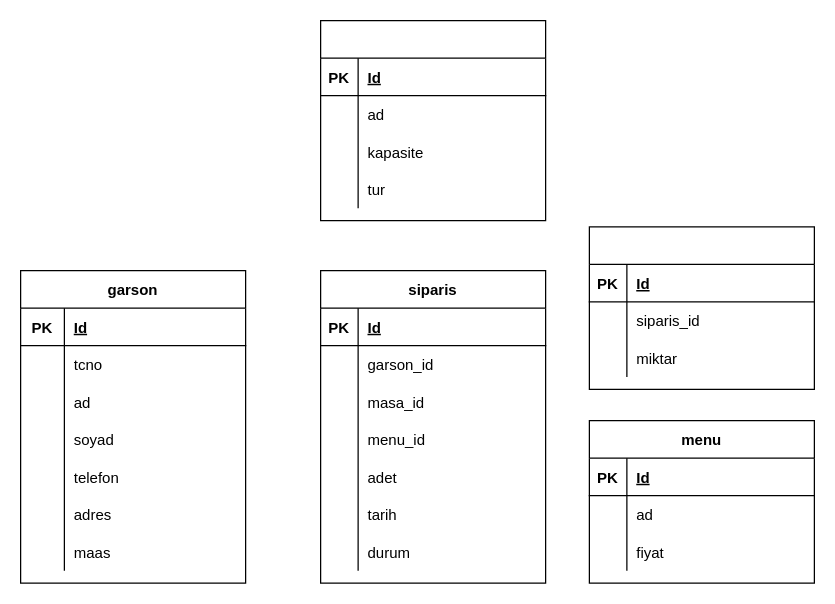
Image size: 835x604. Some labels were removed from this diagram. The box of each missing label's shape, as (x1, y1, x2, y2) in pixels:
kazanc: (588, 226, 814, 389)
masa: (319, 19, 546, 221)
